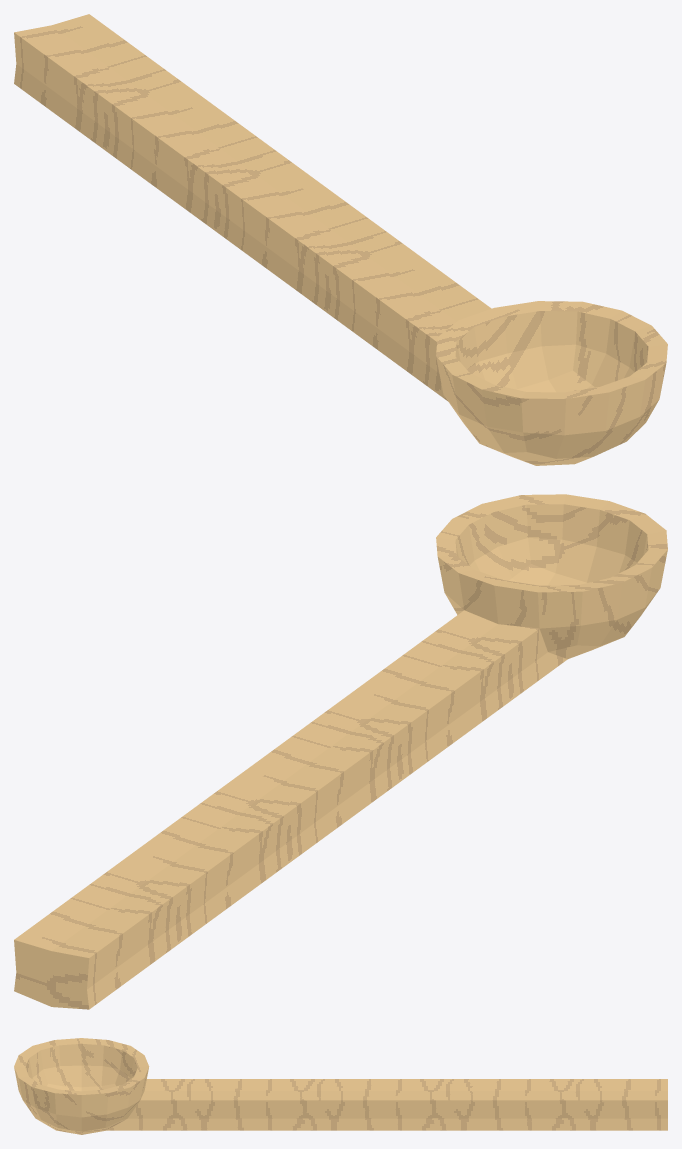
The model's file is catapult.glb.
3 renders of one model, top to bottom at view 1: azimuth 30°, elevation 25°; view 2: azimuth 150°, elevation 25°; view 3: azimuth 270°, elevation 25°, orthographic. The views are drawn at different scales.
Visible parts, largest first — view 1: Catapult; view 2: Catapult; view 3: Catapult.
Boxes of the visible parts, bbox=[...] form: Catapult: bbox=[14, 14, 667, 465]; Catapult: bbox=[14, 494, 667, 1009]; Catapult: bbox=[14, 1038, 667, 1134].
Size of the model in its own units: 0.2617 by 0.1308 by 1.27.
1 material, 1 textured.
